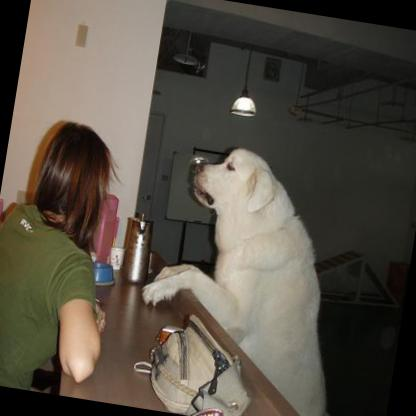Great_Pyrenees: (117, 130, 392, 416)
